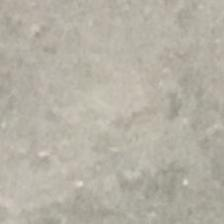Non_Crack: (11, 22, 196, 201)
